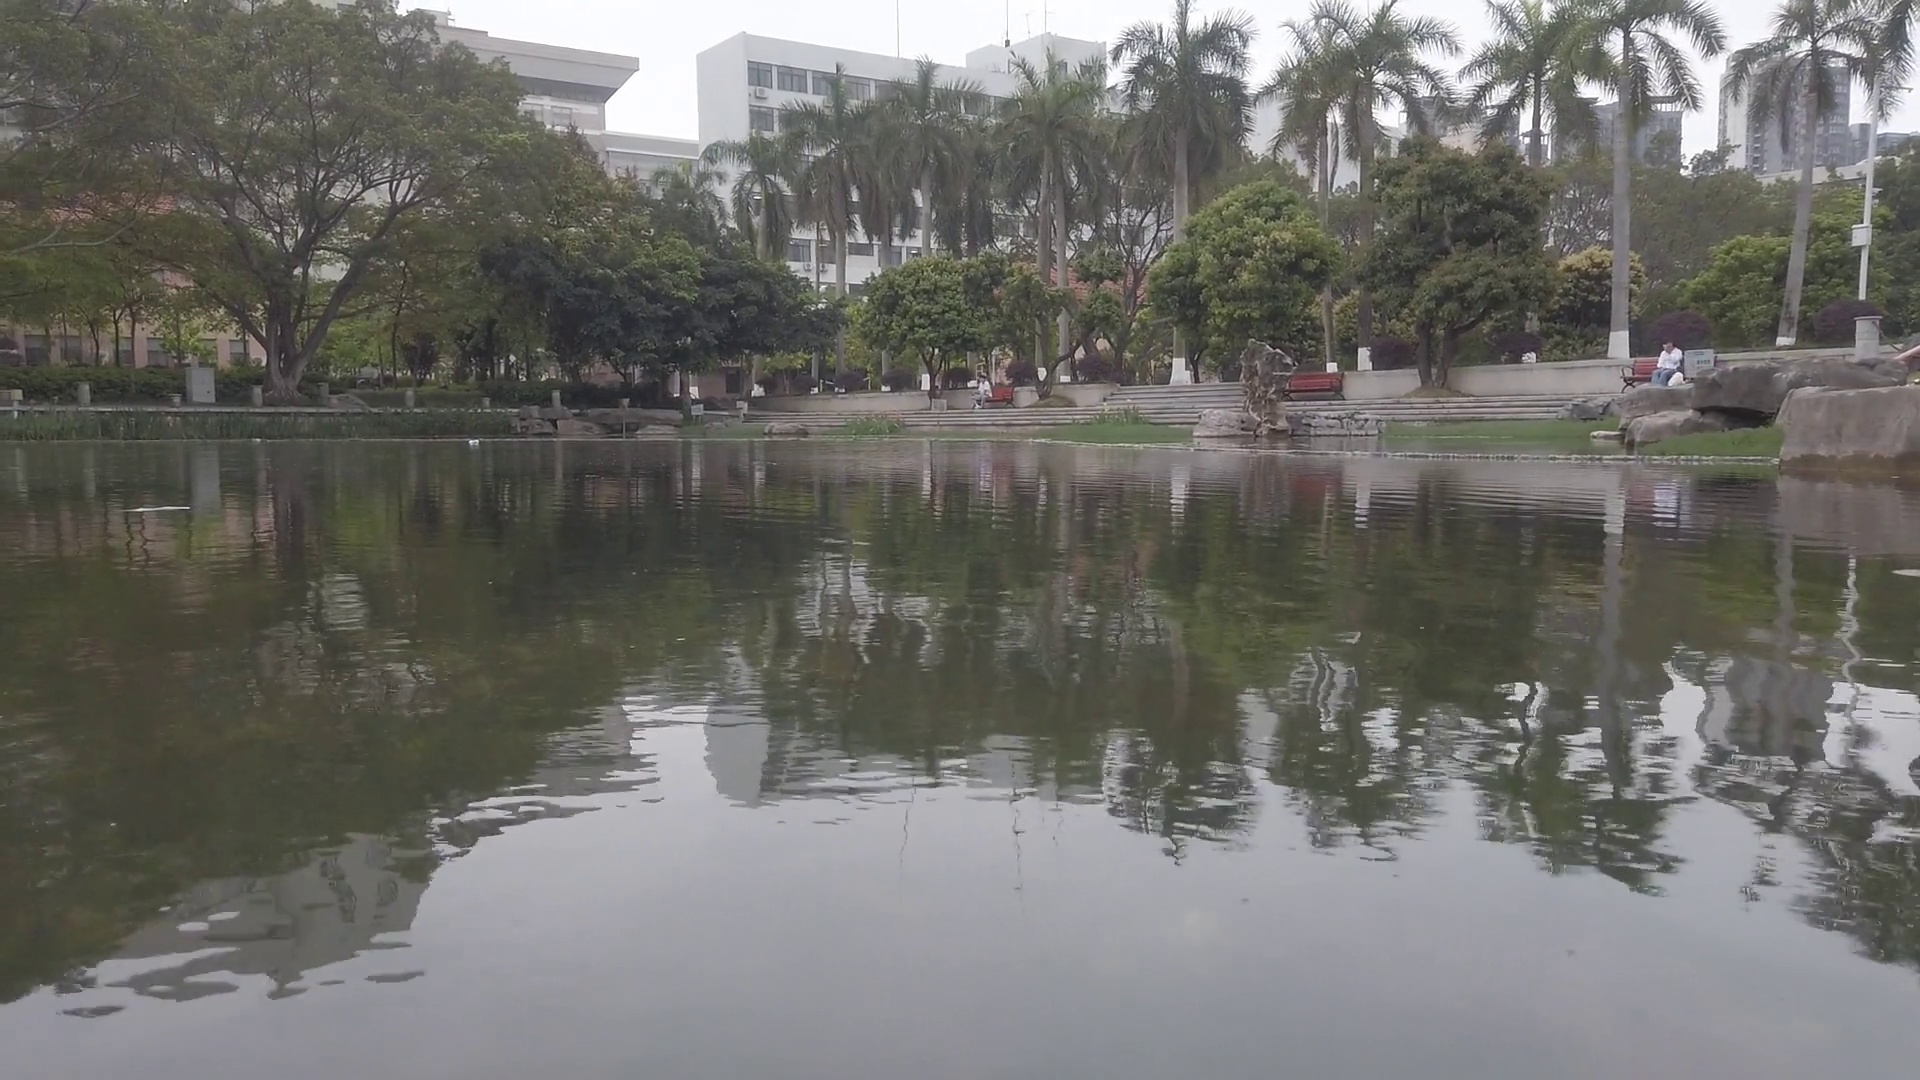bottle: (469, 436, 481, 444)
paper: (120, 504, 187, 514)
